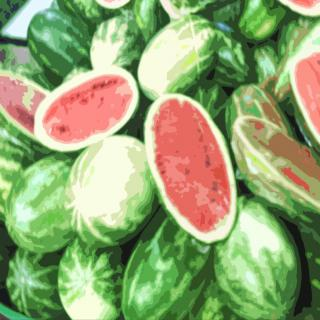Watermelon: (0, 0, 320, 320), (145, 93, 237, 244)
